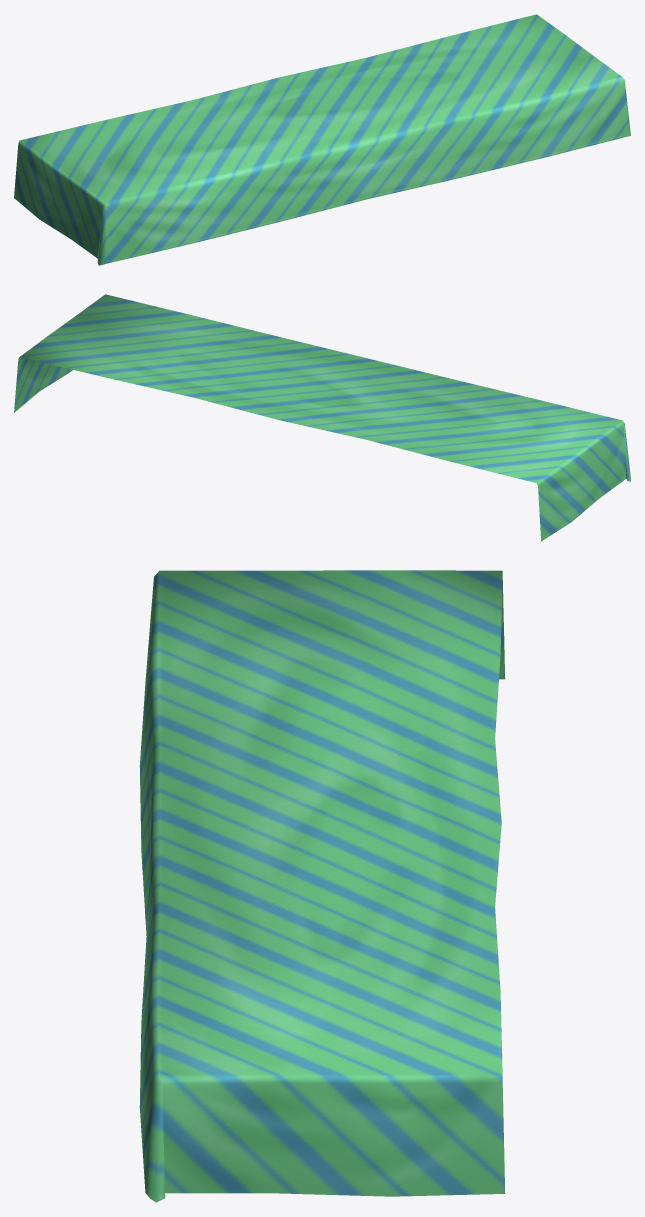
File: jsf_BlindfoldCloth_2P_s03_04.fbx
3 renders of one model, top to bottom at view 1: azimuth 30°, elevation 25°; view 2: azimuth 150°, elevation 25°; view 3: azimuth 270°, elevation 25°, orthographic. The views are drawn at different scales.
Parts seen in each view (by area): view 1: jsf_BlindfoldCloth_2P_s03_04; view 2: jsf_BlindfoldCloth_2P_s03_04; view 3: jsf_BlindfoldCloth_2P_s03_04.
Part boxes in pixels (x1,y1,x2,y2): jsf_BlindfoldCloth_2P_s03_04: [14, 14, 630, 265]; jsf_BlindfoldCloth_2P_s03_04: [14, 294, 630, 541]; jsf_BlindfoldCloth_2P_s03_04: [139, 570, 505, 1202].
Size of the model in its own units: 261 by 28.1 by 77.58.
